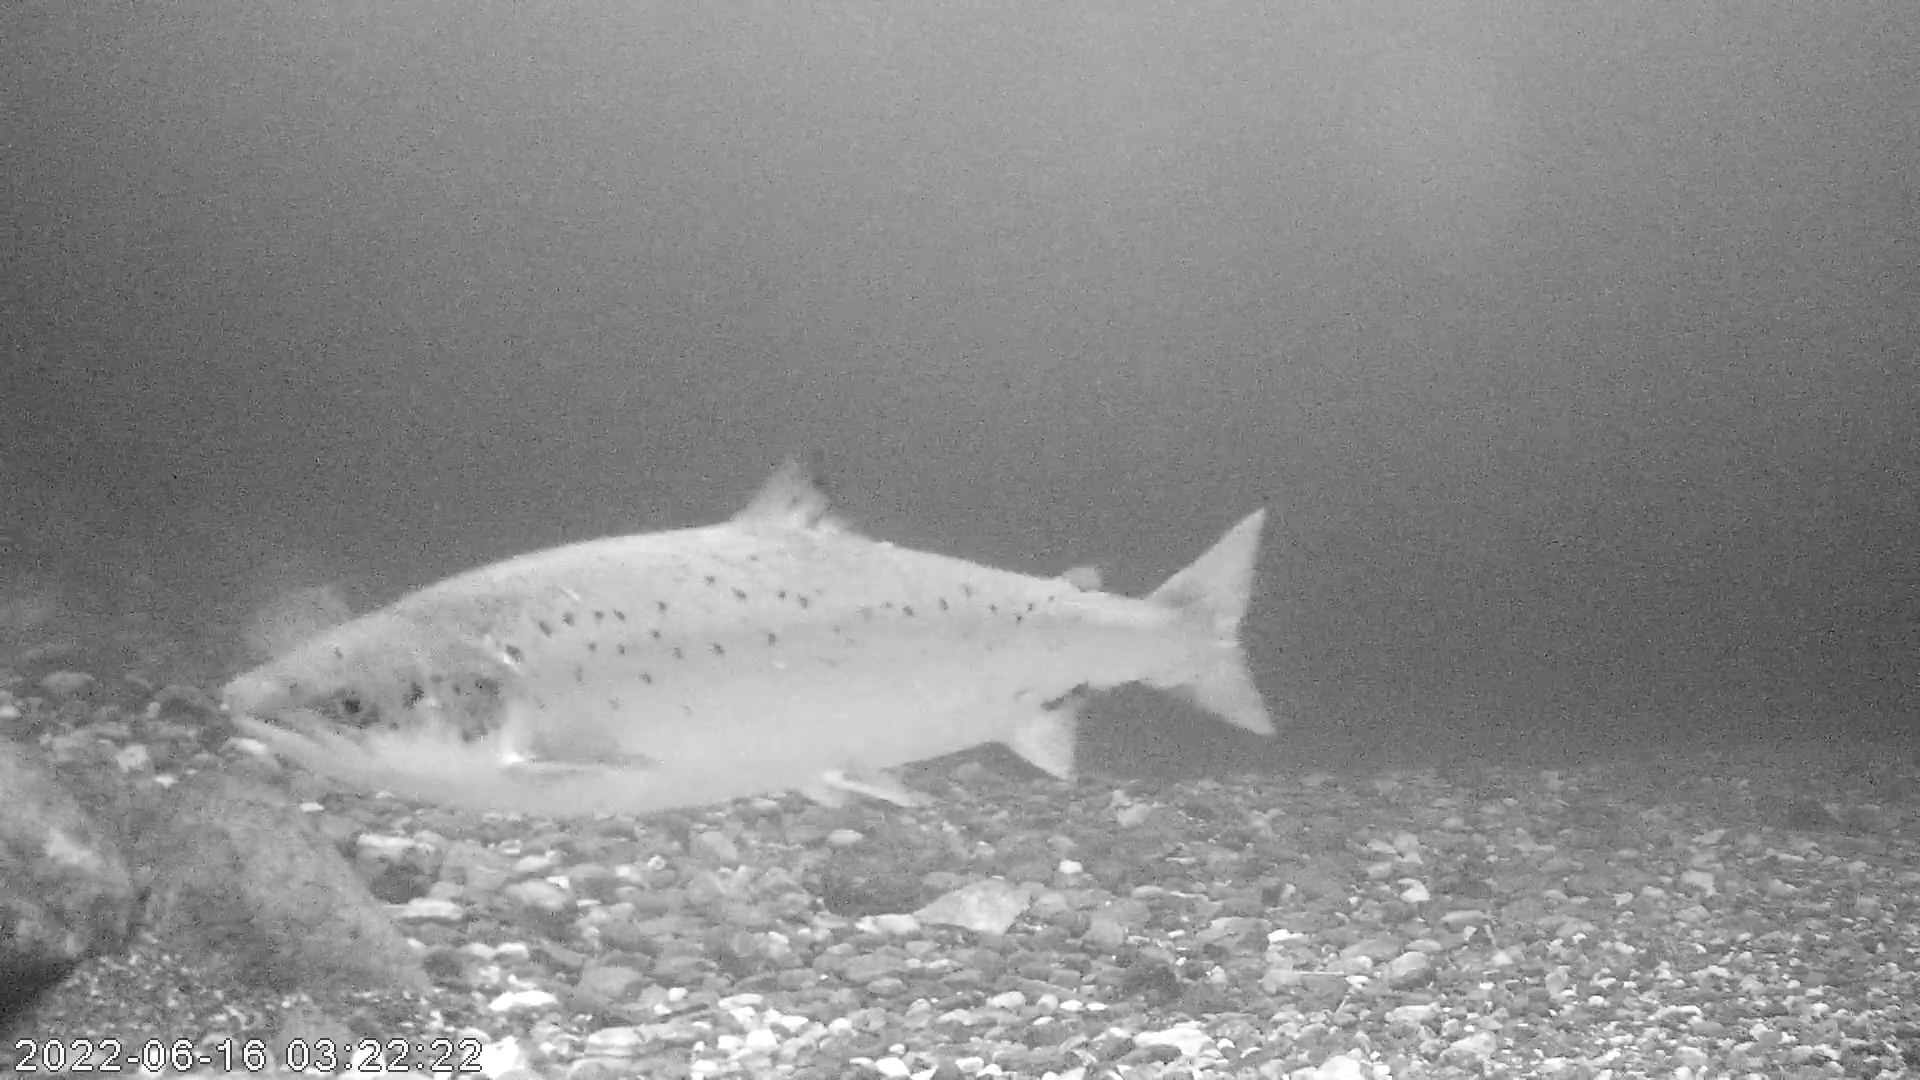salmon: (215, 444, 1278, 820)
